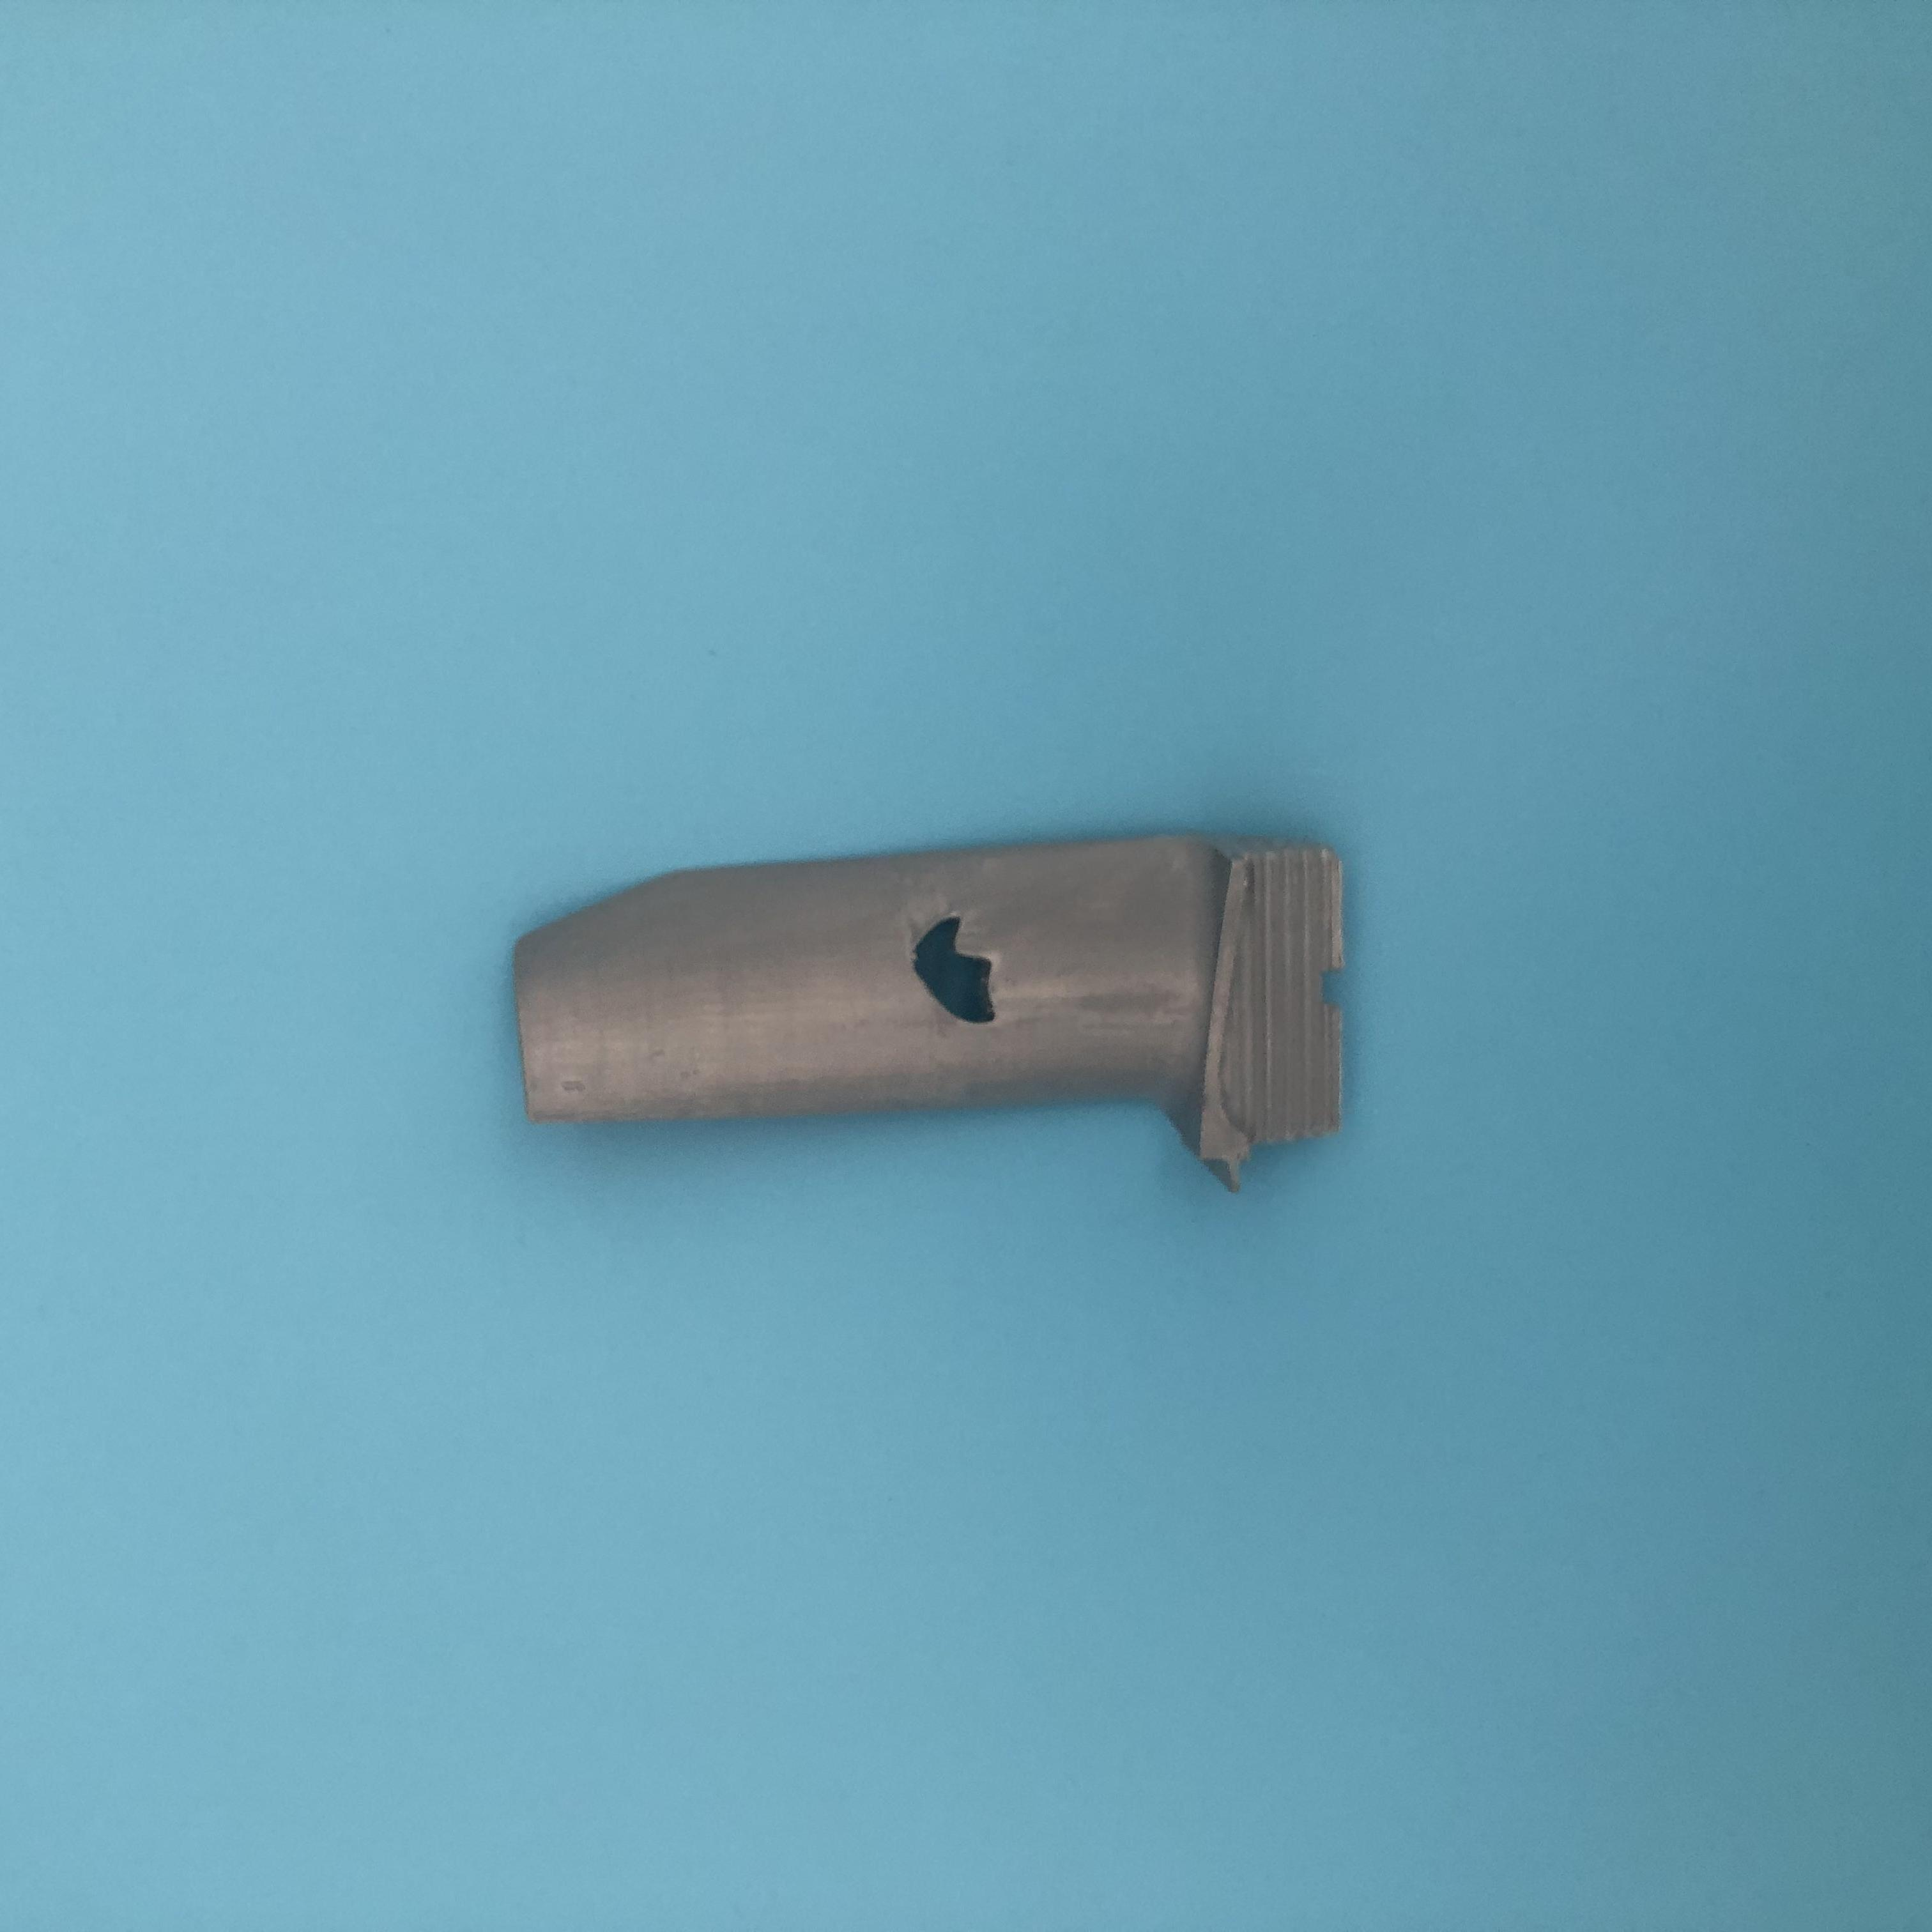breakdown: (909, 904, 1014, 1040)
